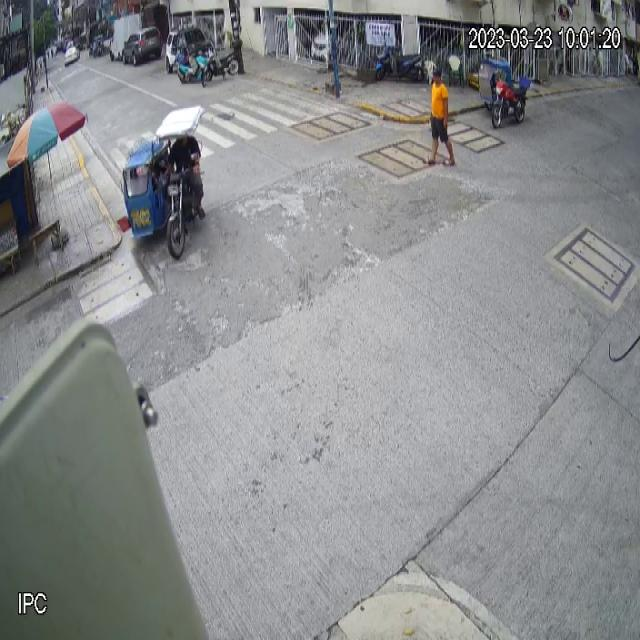Tricycle: (119, 105, 208, 260)
